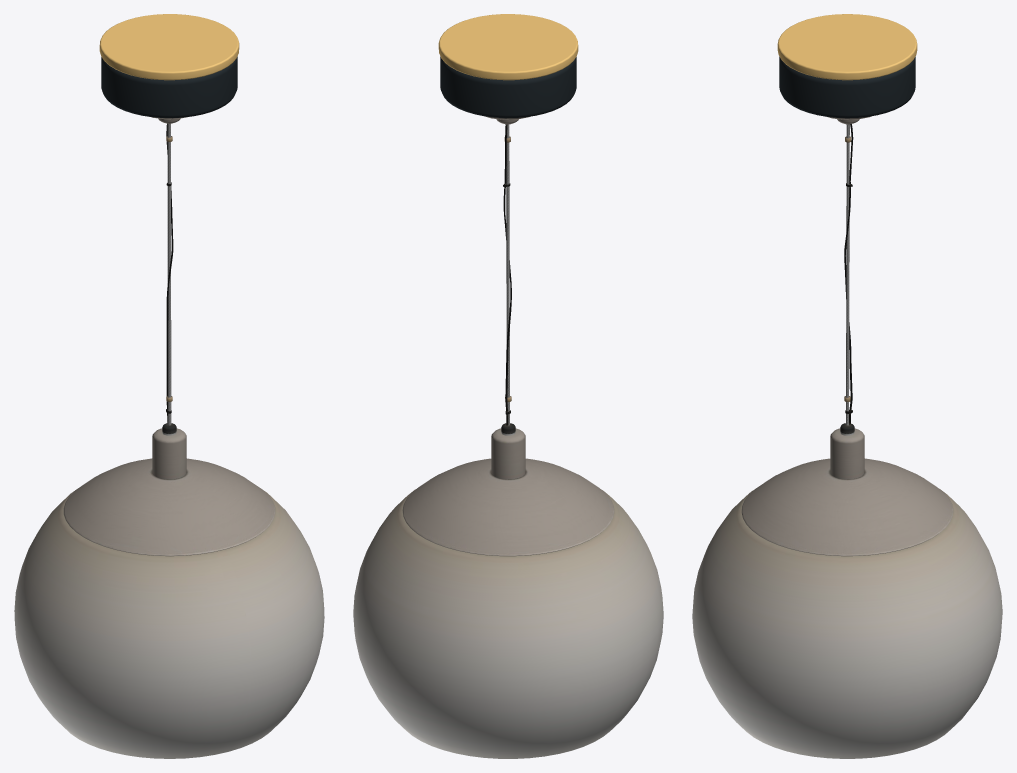
The model's file is hp_l2_cc0_ceiling_lamp_polyhaven_v1.glb.
The picture shows the model from 3 angles, left to right: view 1: azimuth 30°, elevation 25°; view 2: azimuth 150°, elevation 25°; view 3: azimuth 270°, elevation 25°; orthographic projection.
Visible parts, largest first — view 1: cc0_source_modern_ceiling_lamp_01, hp_ceiling_mount_brass_lip, hp_ceiling_mount_dark_cap; view 2: cc0_source_modern_ceiling_lamp_01, hp_ceiling_mount_brass_lip, hp_ceiling_mount_dark_cap; view 3: cc0_source_modern_ceiling_lamp_01, hp_ceiling_mount_brass_lip, hp_ceiling_mount_dark_cap.
Part boxes in pixels (bbox=[...]): cc0_source_modern_ceiling_lamp_01: bbox=[14, 117, 324, 758]; hp_ceiling_mount_brass_lip: bbox=[99, 14, 239, 80]; hp_ceiling_mount_dark_cap: bbox=[101, 56, 237, 118]; cc0_source_modern_ceiling_lamp_01: bbox=[353, 116, 663, 758]; hp_ceiling_mount_brass_lip: bbox=[438, 14, 578, 80]; hp_ceiling_mount_dark_cap: bbox=[440, 56, 576, 118]; cc0_source_modern_ceiling_lamp_01: bbox=[692, 116, 1002, 758]; hp_ceiling_mount_brass_lip: bbox=[777, 14, 917, 80]; hp_ceiling_mount_dark_cap: bbox=[779, 56, 915, 118].
Bounding box in the file's own units: 0.3901 × 0.928 × 0.3901.
Materials: 6 (3 with a texture image).
